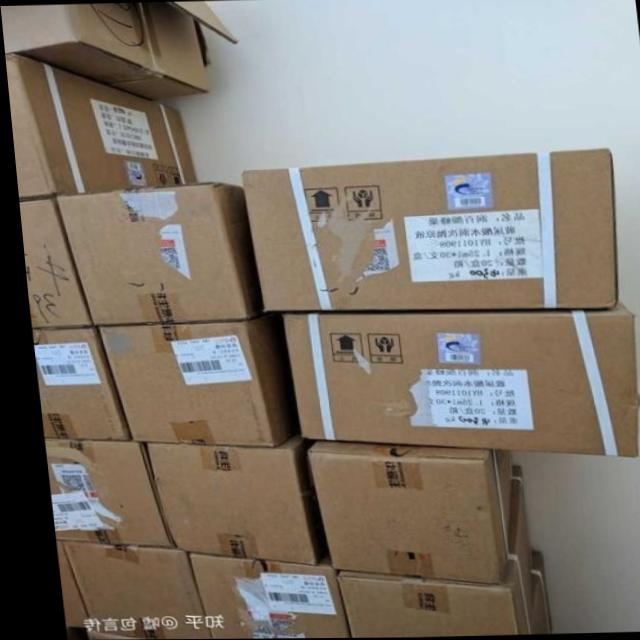box: (235, 148, 613, 310), (279, 304, 627, 458), (327, 466, 524, 638), (51, 184, 272, 327), (299, 441, 503, 583), (4, 53, 195, 202), (90, 313, 289, 447), (0, 2, 236, 101), (135, 438, 315, 563), (50, 540, 197, 639), (36, 437, 164, 548), (176, 552, 336, 639), (26, 327, 118, 440), (15, 199, 87, 327), (50, 540, 78, 628), (514, 553, 543, 633), (74, 630, 147, 640)
